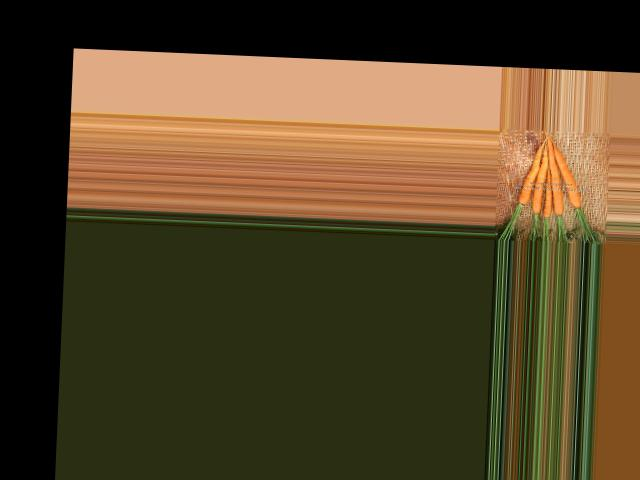carrot: (517, 144, 543, 205)
